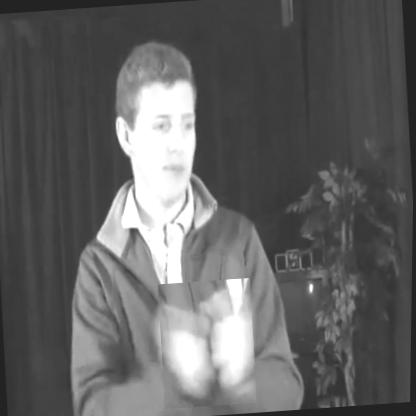NiceToMeetYou: (158, 278, 260, 409)
